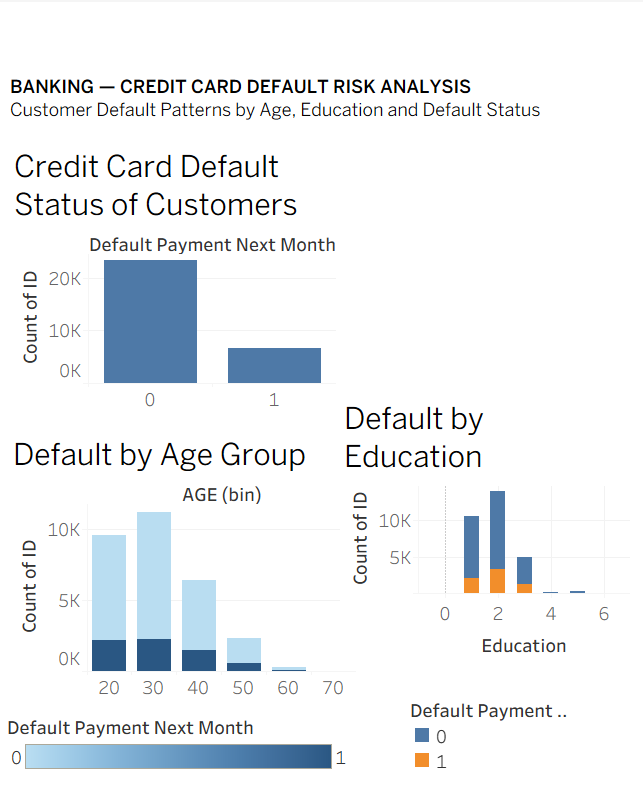

The dashboard page shown, as its layout file describes it:
{"tool":"tableau","page":{"name":"Dashboard 1","canvas":[650,860],"ordinal":0},"visuals":[{"type":"text","box":[7,19.2,592,168.4]},{"type":"worksheet","title":"Sheet 1","mark":"Automatic","rows":["ID"],"cols":["default payment next month"],"box":[11,150.3,326,286.7]},{"type":"worksheet","title":"Sheet 3","mark":"Bar","rows":["ID"],"cols":["EDUCATION"],"box":[341,418.8,290,286.7]},{"type":"worksheet","title":"Sheet 2","mark":"Automatic","rows":["ID"],"cols":["AGE (bin)"],"box":[10,457.2,347,286.7]},{"type":"legend","title":"Sheet 3","param":"[federated.017nf1u1yqwfx6158oh2f0bjdwub].[none:default payment next month:ok]","box":[411,740.6,168,81]}]}

Visuals, with their boxes on the page's 650x860 design canvas (x1, y1, x2, y2). These are canvas units, not pixel positions in the 643x808 screenshot, which may show the page scaled, cropped or inside an application window:
text: locate(7, 19, 599, 188)
"Sheet 1" worksheet: locate(11, 150, 337, 437)
"Sheet 3" worksheet (Bar marks): locate(341, 419, 631, 706)
"Sheet 2" worksheet: locate(10, 457, 357, 744)
"Sheet 3" legend: locate(411, 741, 579, 822)
